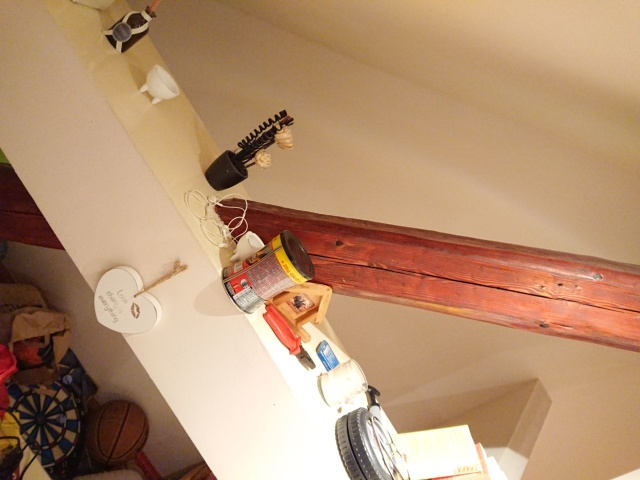Nescafe Classic 225g: (219, 228, 318, 317)
